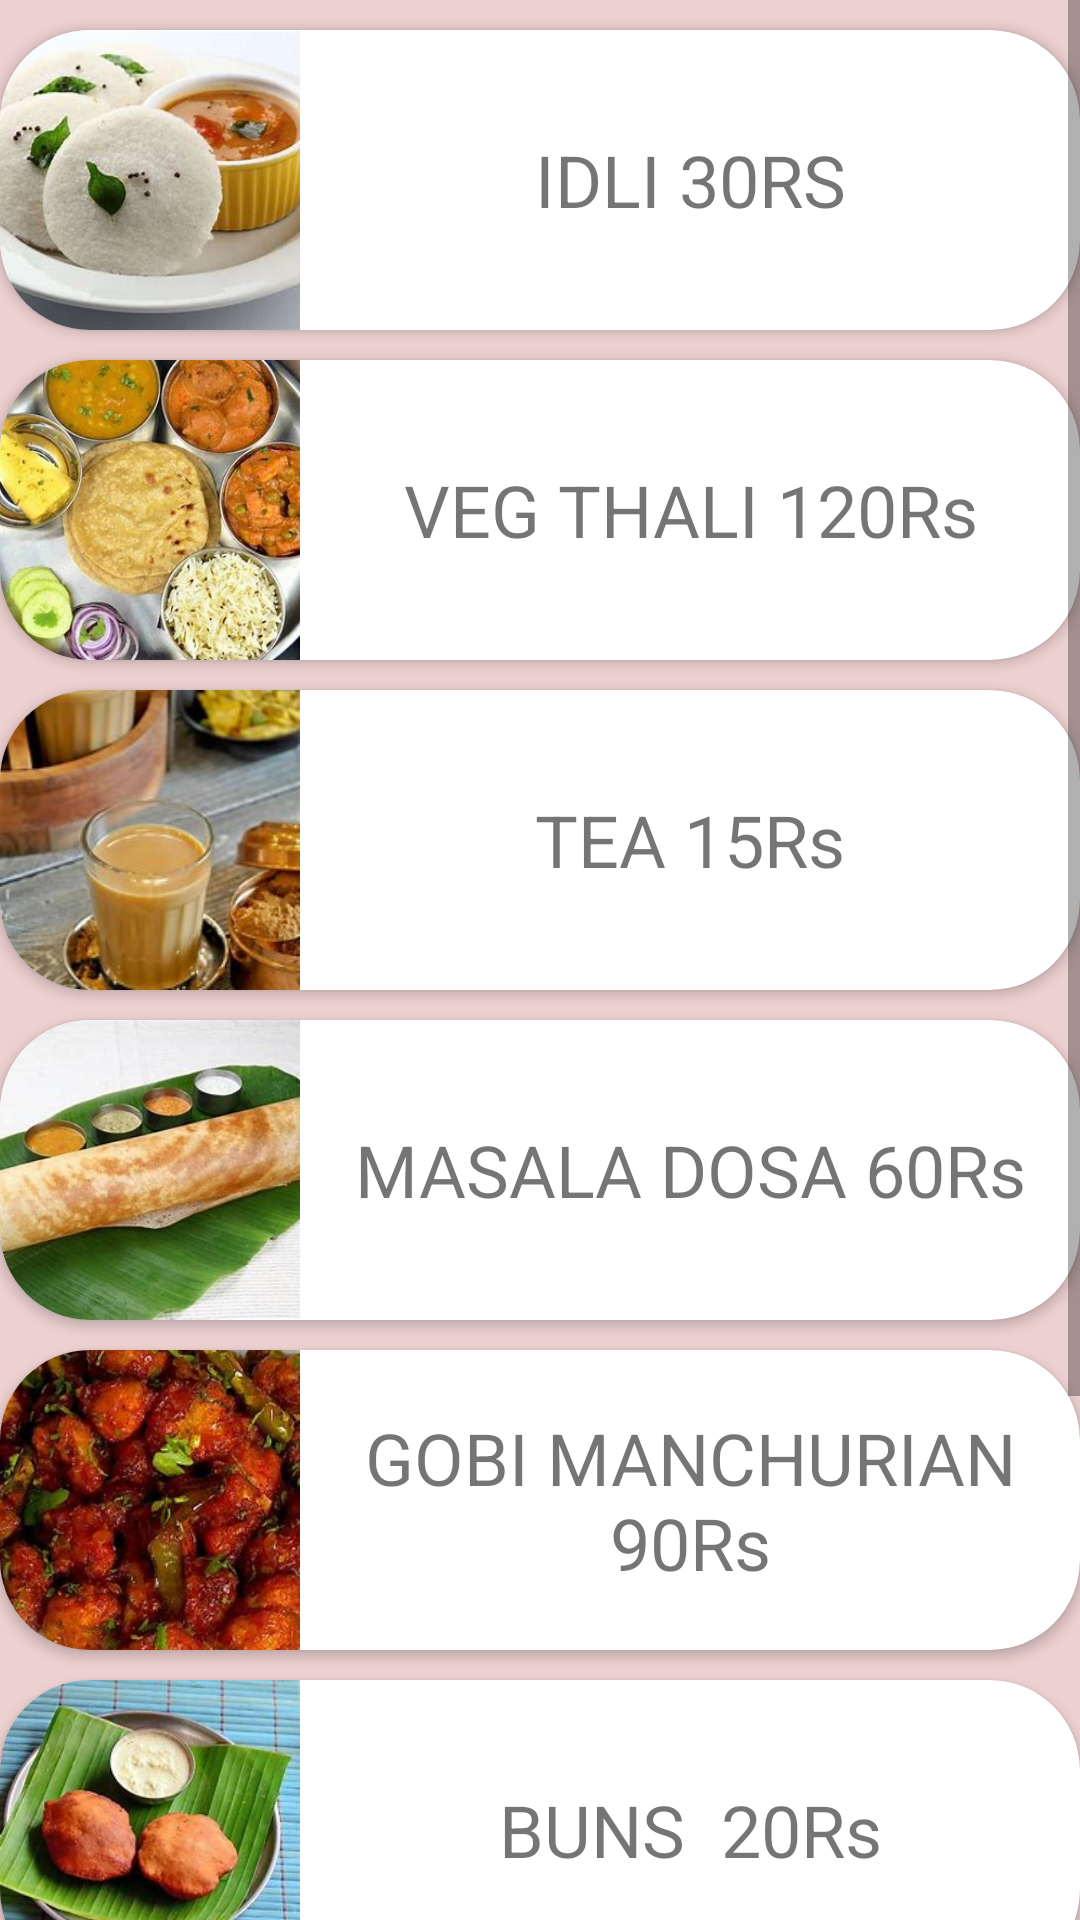

Named icons in this screenshot (1080w x 1920h) and their centers, (x,y):
gobiimage: (150,1500)
